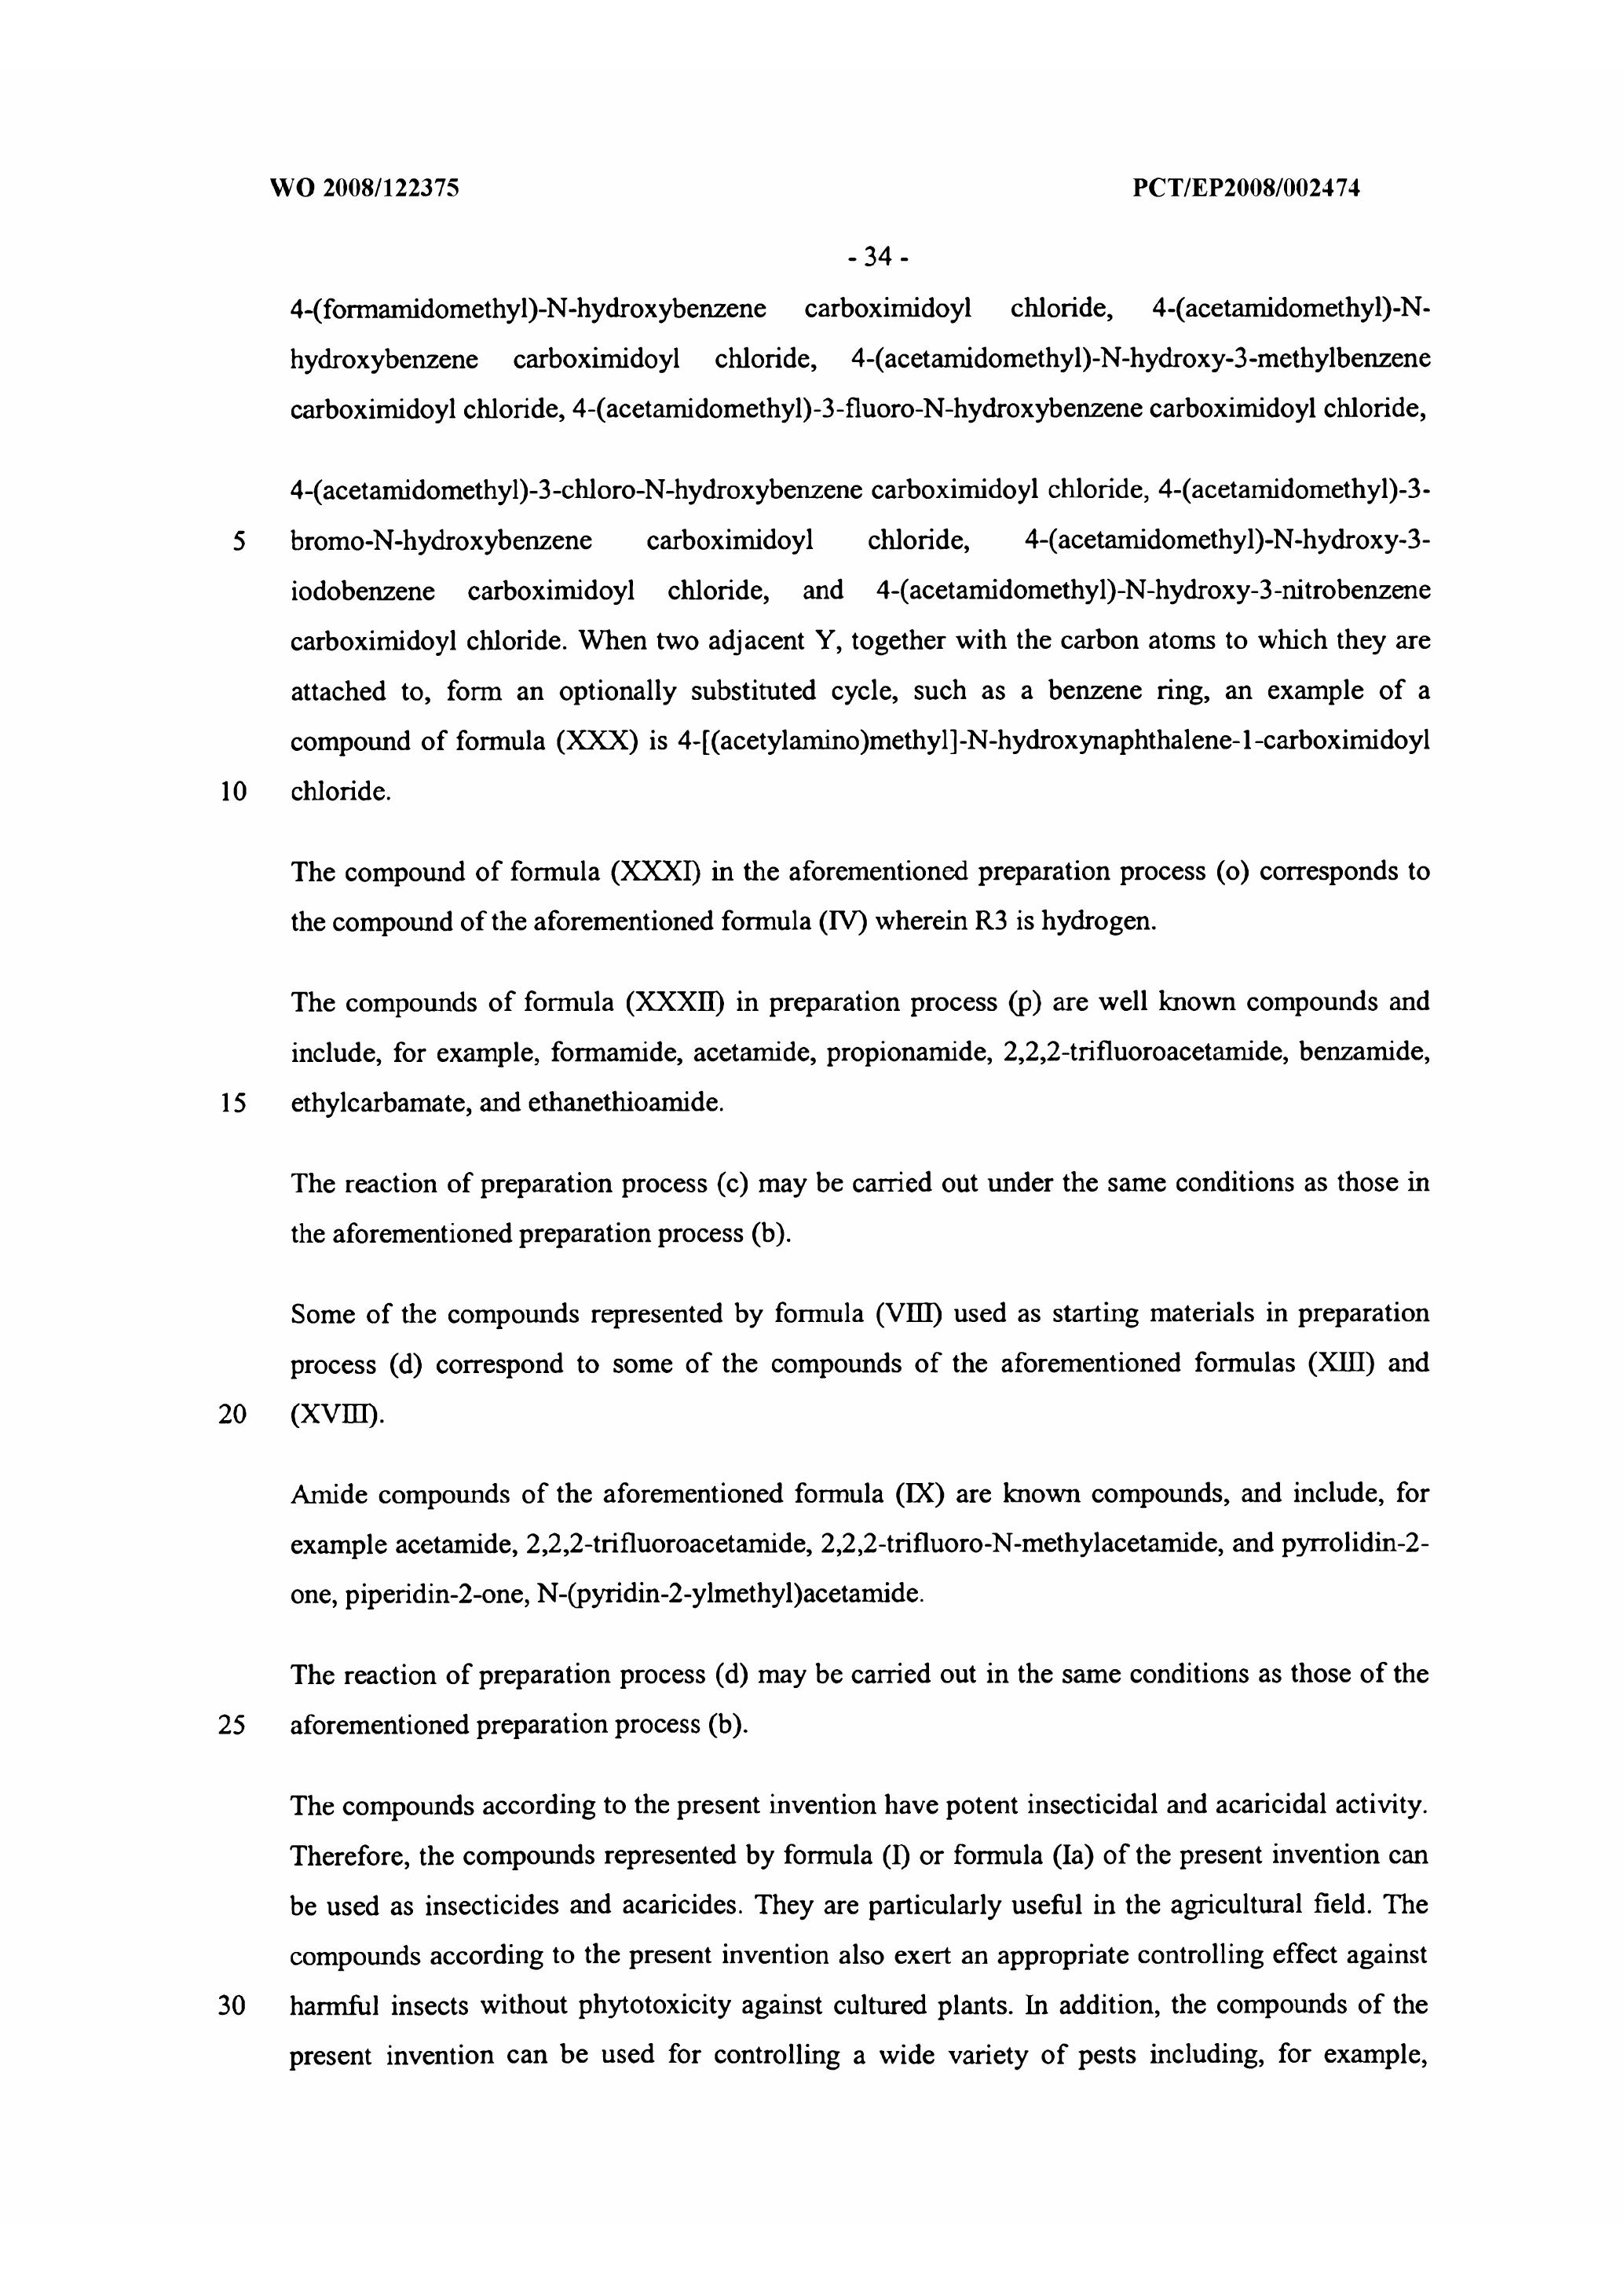substitutes: (264, 457, 1480, 807)
